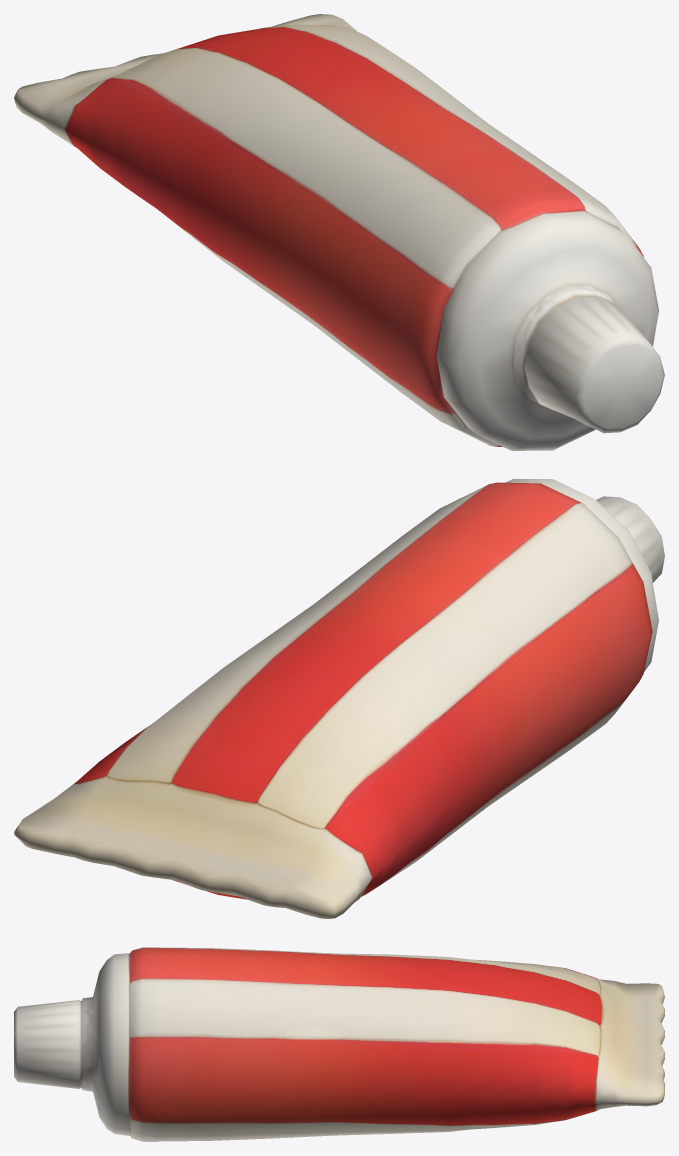
The model's file is player2_weapon.fbx.
3 views of the same model, one above another, from view 1: azimuth 30°, elevation 25°; view 2: azimuth 150°, elevation 25°; view 3: azimuth 270°, elevation 25° (orthographic). The views are drawn at different scales.
Parts seen in each view (by area): view 1: player2_weapon; view 2: player2_weapon; view 3: player2_weapon.
Boxes of the visible parts, x1,y1,x2,y2 form: player2_weapon: (14,14,664,450); player2_weapon: (14,479,664,918); player2_weapon: (14,947,664,1141).
Bounding box in the file's own units: 41.6 × 99.8 × 29.88.
1 material, 1 textured.
